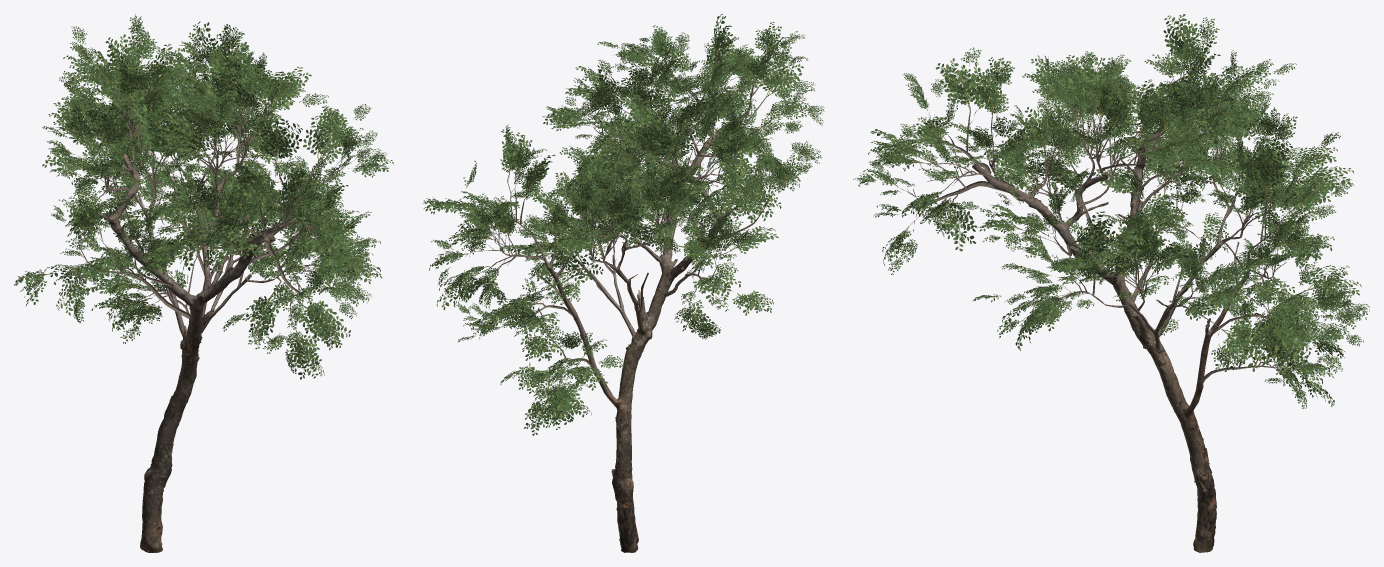
Rendered from tree_small_02.glb.
3 views of the same model, side by side, from view 1: azimuth 30°, elevation 25°; view 2: azimuth 150°, elevation 25°; view 3: azimuth 270°, elevation 25° (orthographic). The views are drawn at different scales.
Visible parts, largest first — view 1: tree_small_02_LOD0; view 2: tree_small_02_LOD0; view 3: tree_small_02_LOD0.
Part boxes in pixels (x1,y1,x2,y2): tree_small_02_LOD0: [14, 14, 393, 552]; tree_small_02_LOD0: [422, 14, 824, 552]; tree_small_02_LOD0: [853, 14, 1369, 552].
Size of the model in its own units: 2.92 by 4.56 by 4.29.
Materials: 3 (3 with a texture image).
